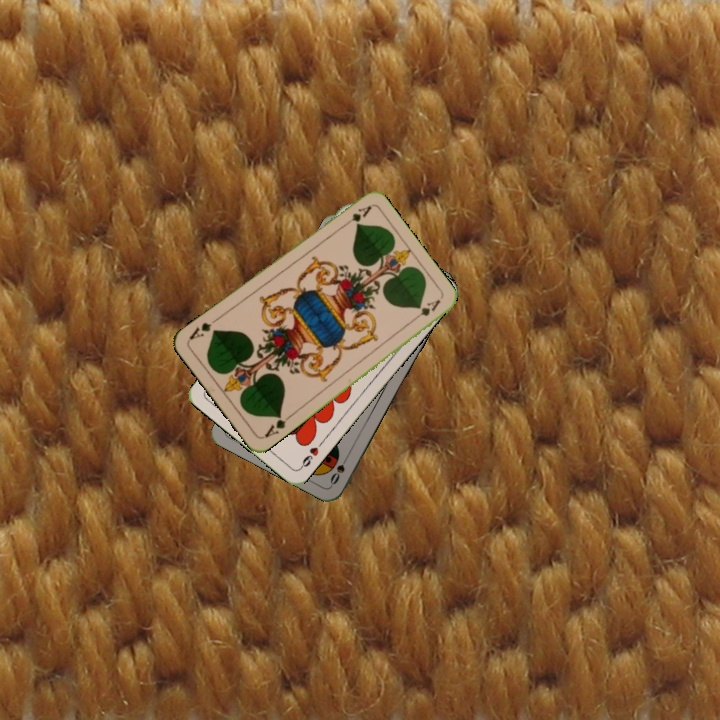GA: (260, 410, 294, 441), (338, 202, 374, 230)
H9: (296, 438, 326, 472)
SO: (326, 450, 352, 487)
